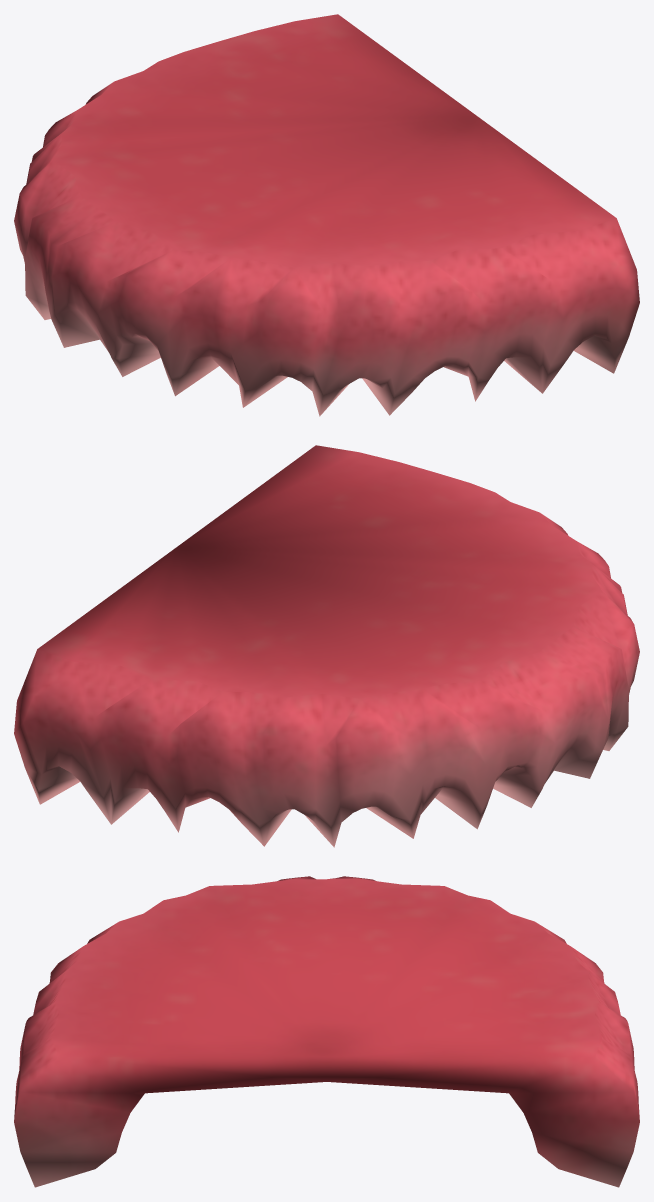
File: UpperGums.fbx
The picture shows the model from 3 angles, top to bottom: view 1: azimuth 30°, elevation 25°; view 2: azimuth 150°, elevation 25°; view 3: azimuth 270°, elevation 25°; orthographic projection. The views are drawn at different scales.
Visible parts, largest first — view 1: polySurface34; view 2: polySurface34; view 3: polySurface34.
Part boxes in pixels (x1=…): polySurface34: x1=14, y1=14, x2=639, y2=416; polySurface34: x1=14, y1=445, x2=639, y2=847; polySurface34: x1=14, y1=876, x2=639, y2=1187.
Bounding box in the file's own units: 639 × 216 × 832.
